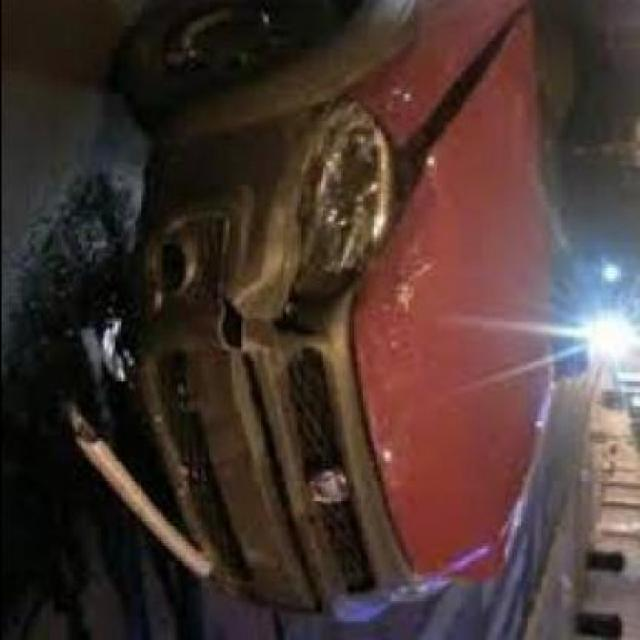damage: (70, 104, 449, 572)
